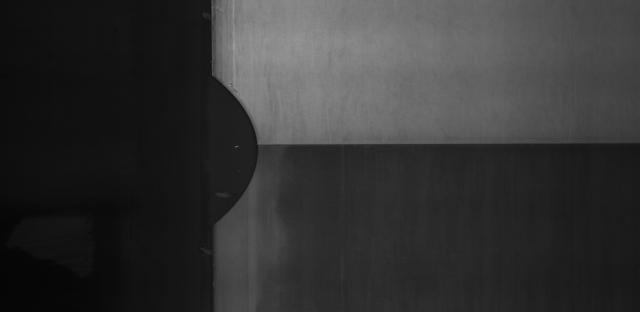crescent_gap: (206, 70, 264, 228)
welding_line: (259, 136, 636, 152)
